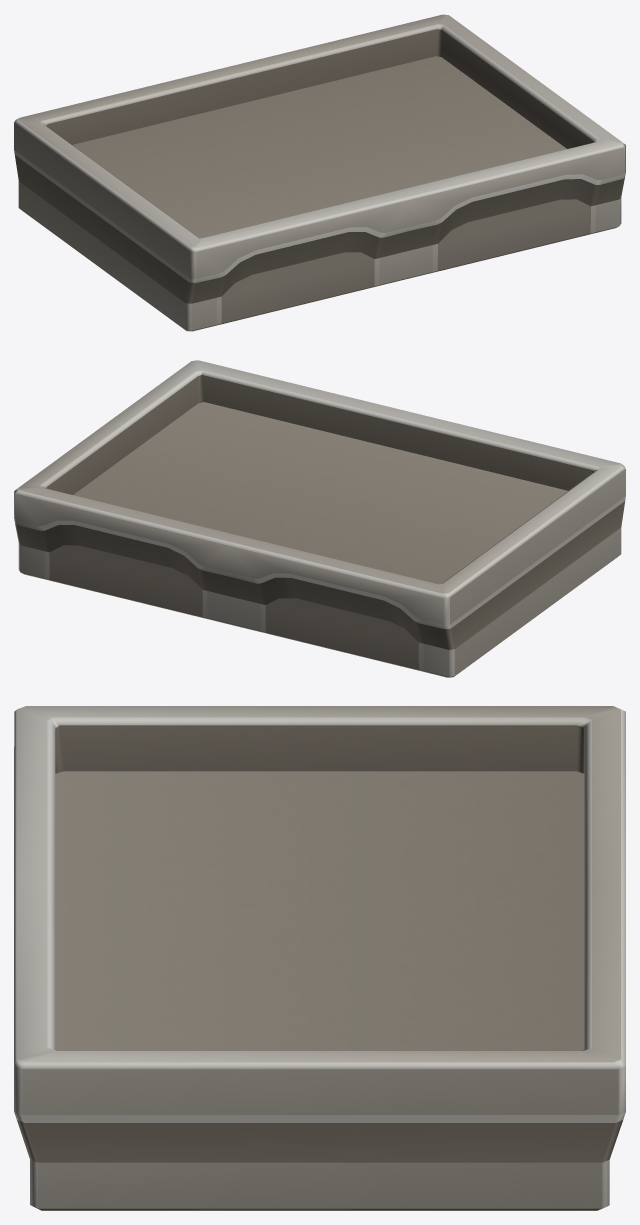
File: appartment_type1_roof_type1_x6.fbx
3 views of the same model, one above another, from view 1: azimuth 30°, elevation 25°; view 2: azimuth 150°, elevation 25°; view 3: azimuth 270°, elevation 25° (orthographic). The views are drawn at different scales.
Parts seen in each view (by area): view 1: appartment_type1_roof_type1_x6; view 2: appartment_type1_roof_type1_x6; view 3: appartment_type1_roof_type1_x6.
Boxes of the visible parts, x1=… form: appartment_type1_roof_type1_x6: x1=14, y1=14, x2=625, y2=331; appartment_type1_roof_type1_x6: x1=14, y1=360, x2=625, y2=677; appartment_type1_roof_type1_x6: x1=14, y1=706, x2=625, y2=1210.
Bounding box in the file's own units: 1210 × 232 × 867.
